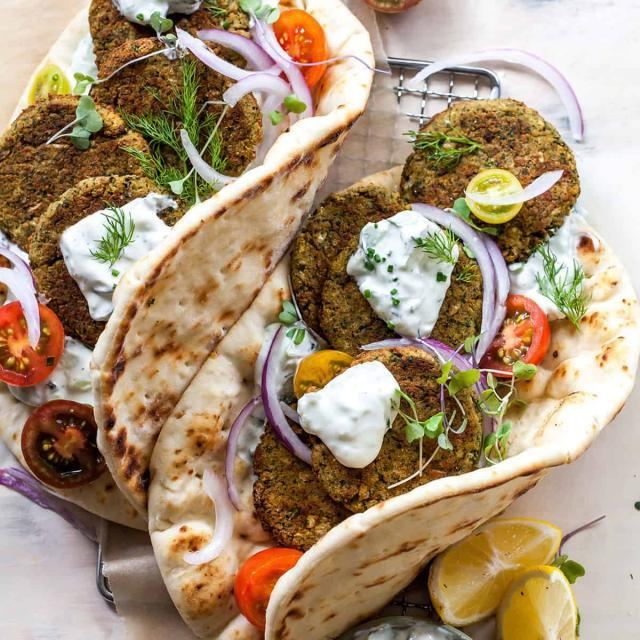flafel: (307, 348, 485, 514), (402, 100, 579, 258), (327, 223, 502, 354)
